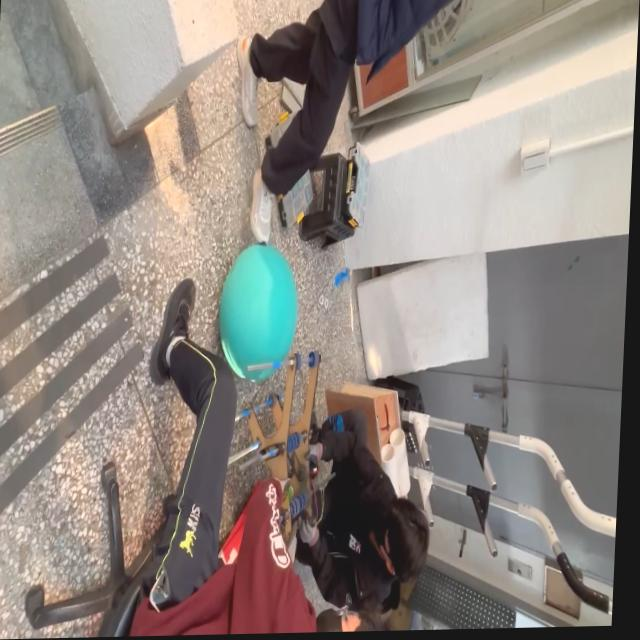ALGAE: (214, 240, 301, 385)
